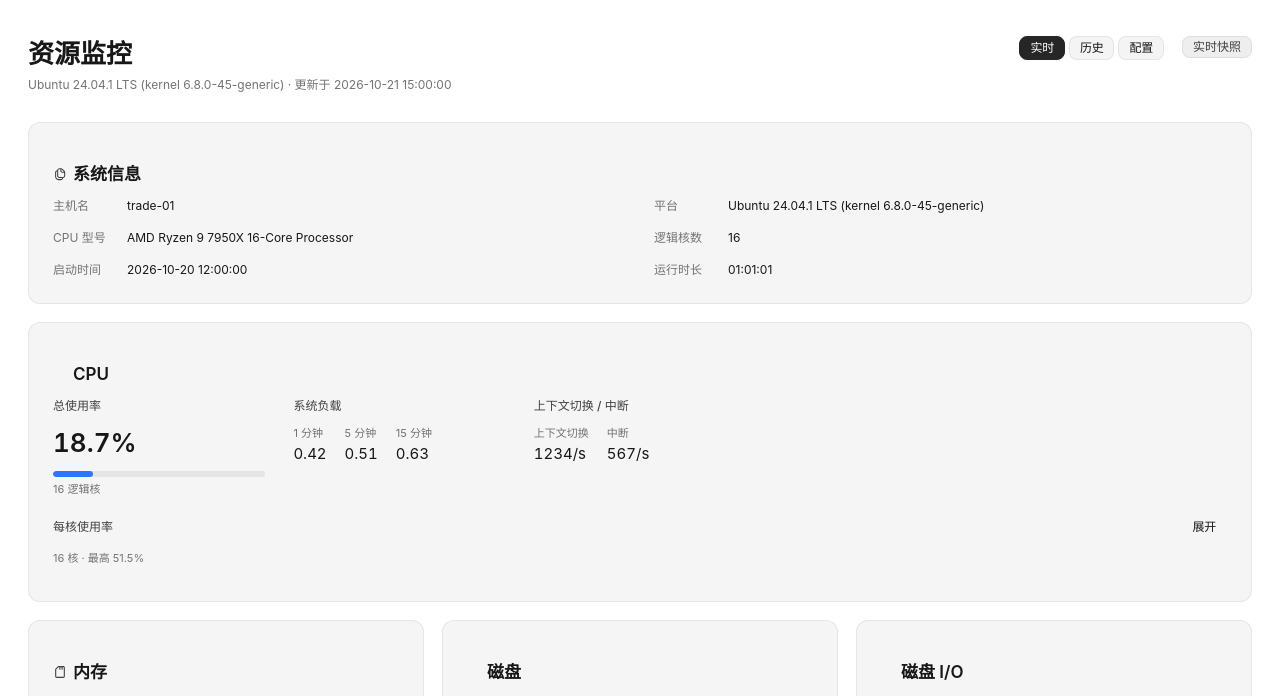
Test case: MonitorView 历史视图（#79 三态） › 有数据带缺口与时钟跳变：摘要显示异常计数
Click the tab with test id "monitor-tab-history".
click(1092, 48)  # box x1=1069 y1=36 x2=1114 y2=60
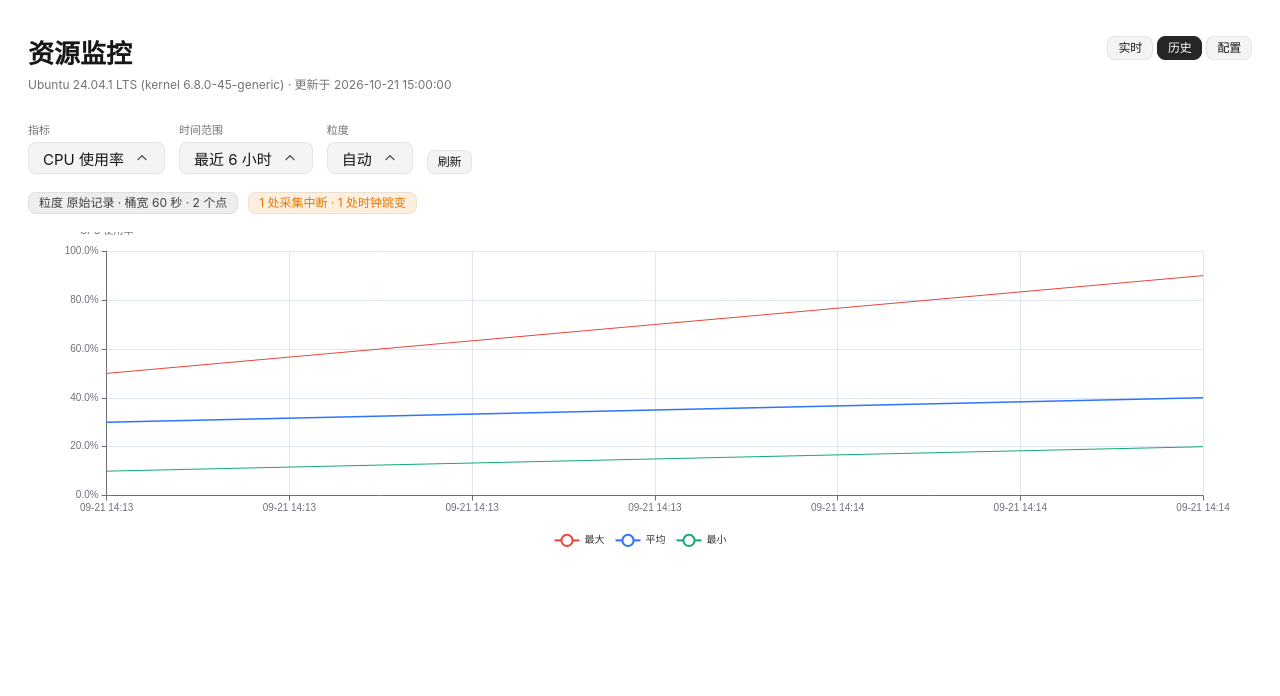
Check: the text with test id "sysmon-history-anomaly" shows "1 处采集中断", box x1=259 y1=195 x2=406 y2=210
Check: the text with test id "sysmon-history-anomaly" shows "1 处时钟跳变", box x1=259 y1=195 x2=406 y2=210
